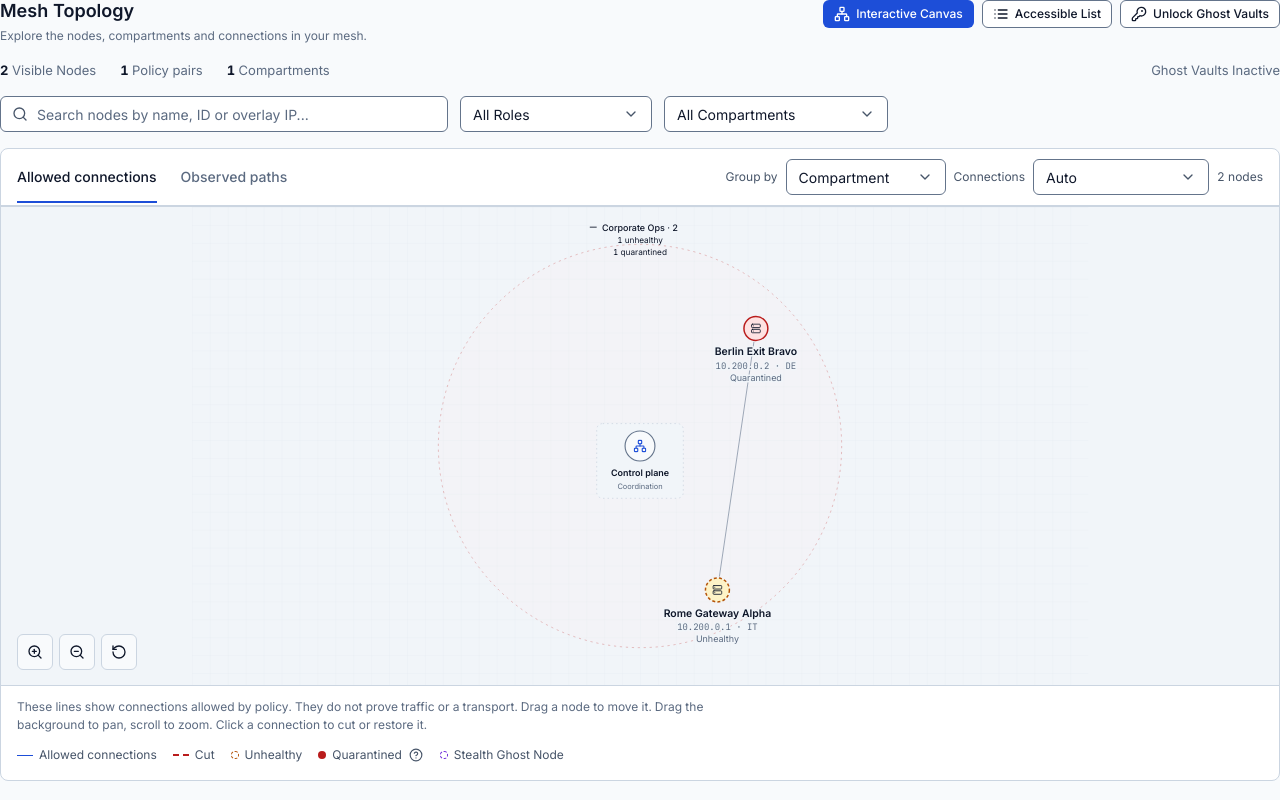
Test case: Radial mesh uses policy and observations as distinct evidence › places coordination at the centre without declaring configured links observed
The image size is (1280, 800).
Expected: the text "Control plane" is shown, [611,467,669,478]
Click the button "Observed paths" at (234, 177), box [181,152,287,202]
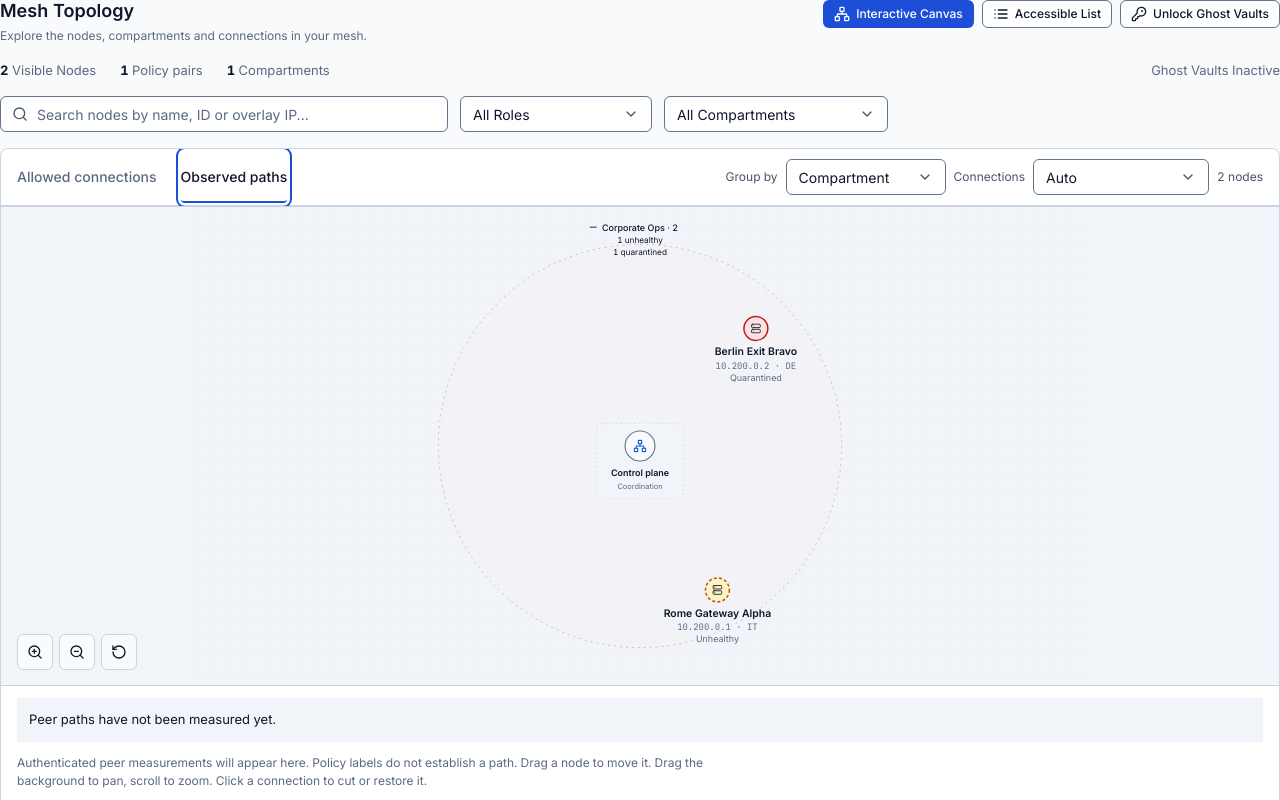
Expected: the text "Peer paths have not been measured yet." is shown, [17,698,1263,742]
